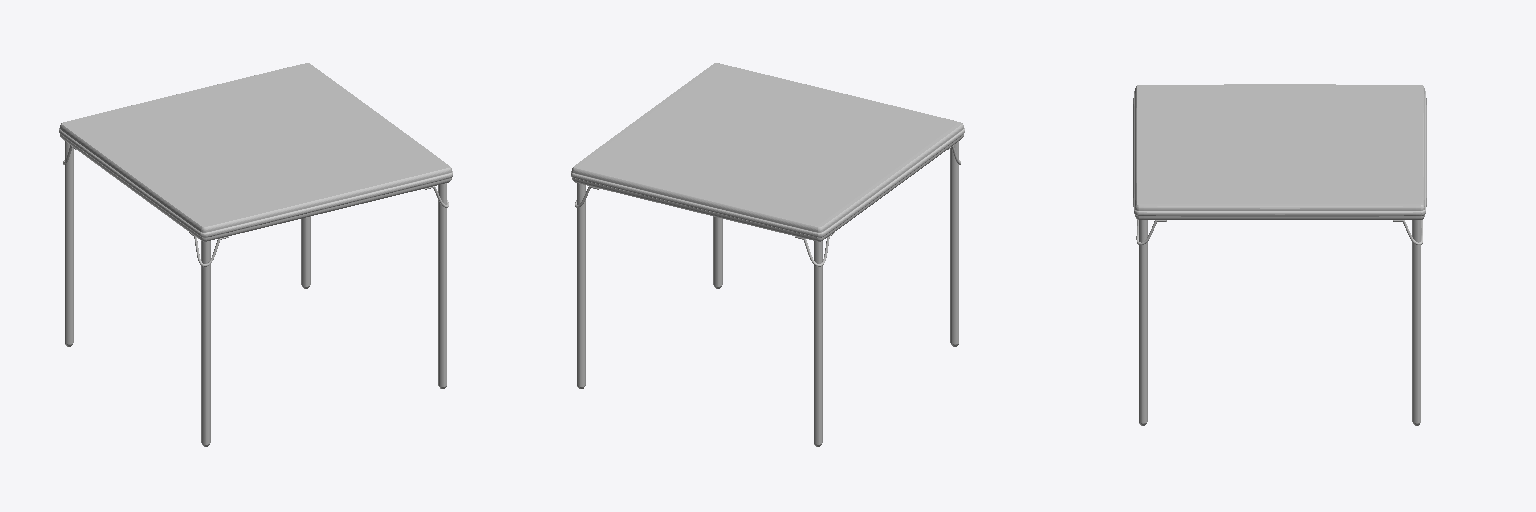
Rendered from table2.obj.
The picture shows the model from 3 angles: view 1: azimuth 30°, elevation 25°; view 2: azimuth 150°, elevation 25°; view 3: azimuth 270°, elevation 25°; orthographic projection.
Visible parts, largest first — view 1: table; view 2: table; view 3: table.
Part boxes in pixels (left/top/right/bottom): table: left=59, top=63, right=452, bottom=446; table: left=571, top=63, right=964, bottom=446; table: left=1133, top=84, right=1426, bottom=425.
Bounding box in the file's own units: 0.9 × 0.75 × 0.9.